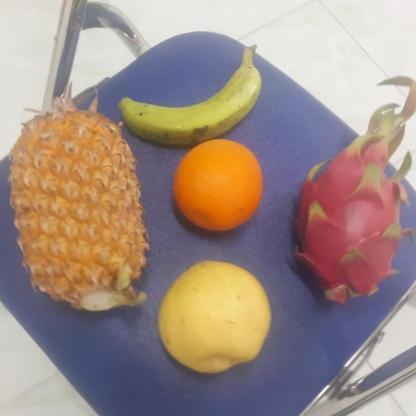banana: (115, 36, 258, 146)
orange: (168, 140, 264, 231)
pear: (150, 260, 269, 374)
pineapple: (5, 116, 148, 312)
pitaya: (284, 138, 412, 305)
